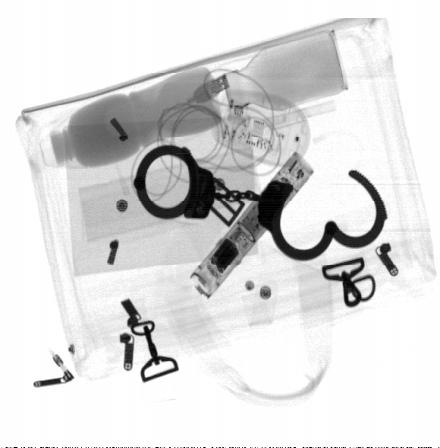Baton: (189, 150, 314, 300)
HandCuffs: (132, 144, 389, 263)
